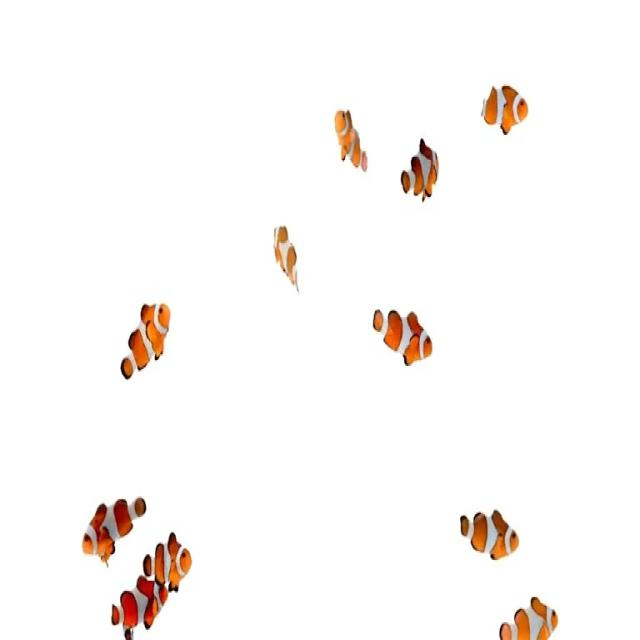fish: (76, 481, 144, 576), (455, 490, 523, 574), (113, 292, 171, 387), (371, 294, 435, 379), (103, 562, 168, 640), (263, 217, 310, 310), (140, 526, 199, 599), (479, 70, 531, 150), (397, 137, 447, 215), (492, 585, 559, 640), (333, 99, 369, 182)
